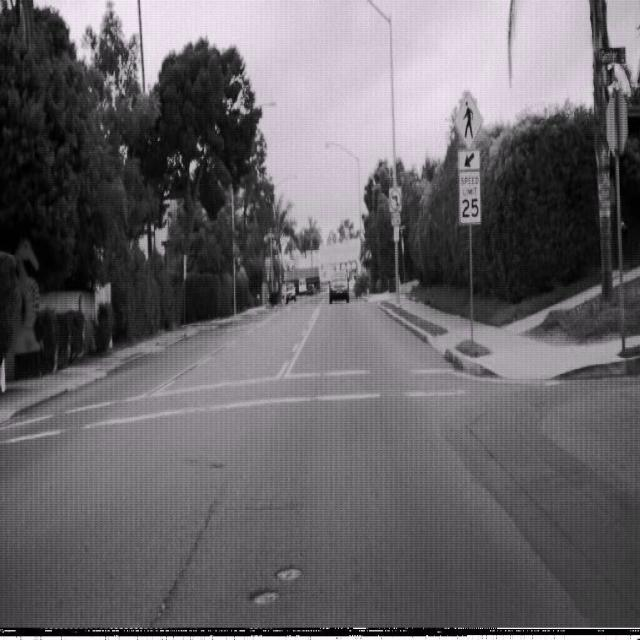noLeftTurn: (388, 185, 402, 212)
pedestrianCrossing: (453, 92, 483, 150)
speedLimit25: (458, 168, 481, 224)
